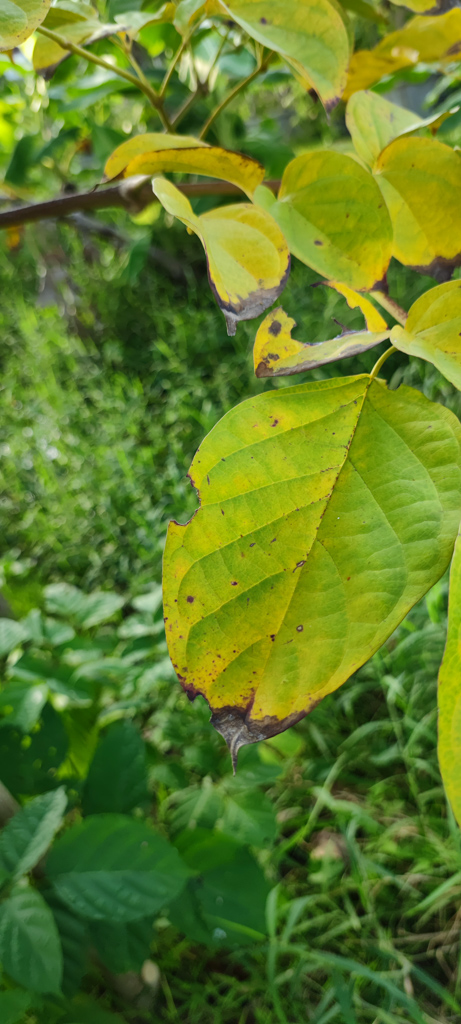Pepper yellow leaf: (151, 391, 431, 758), (289, 138, 460, 292), (144, 182, 287, 331), (81, 121, 264, 197), (384, 278, 460, 386)
